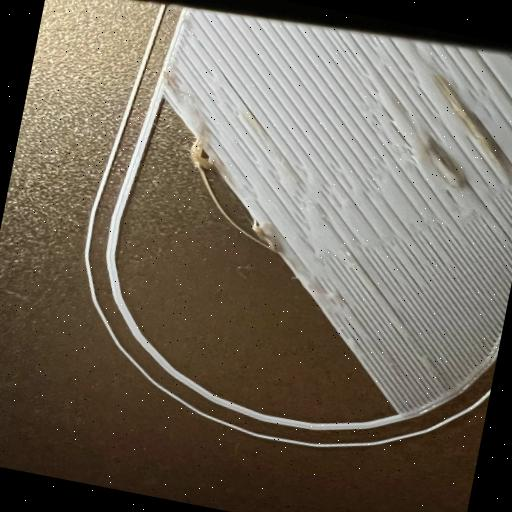blobs: (180, 128, 218, 177), (244, 220, 276, 250)
